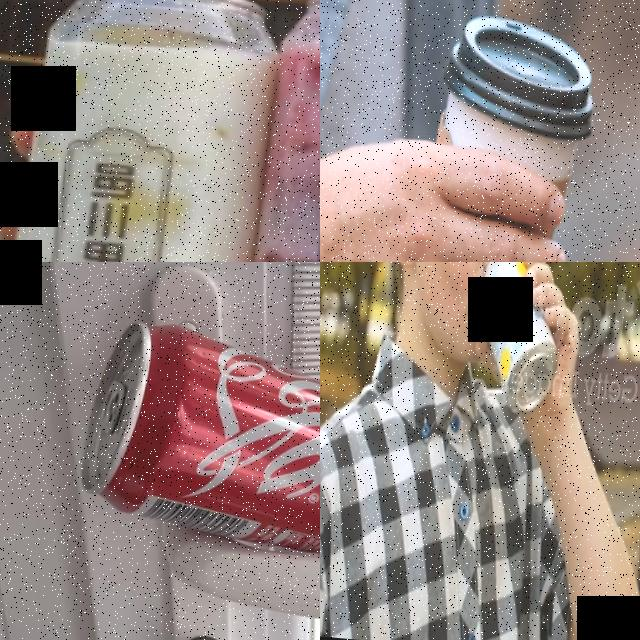can: (0, 0, 277, 262), (72, 313, 320, 571), (227, 0, 320, 262), (470, 262, 566, 420)
cup: (398, 9, 597, 262)
